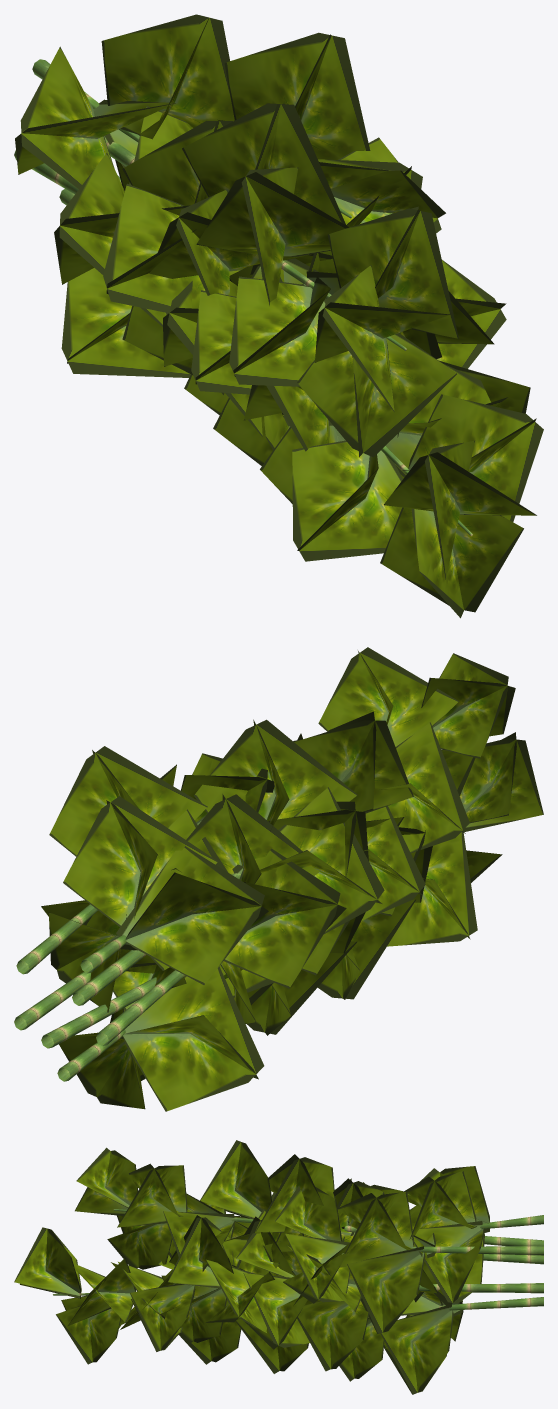
The model's file is tree-4.gltf.
The picture shows the model from 3 angles, top to bottom: view 1: azimuth 30°, elevation 25°; view 2: azimuth 150°, elevation 25°; view 3: azimuth 270°, elevation 25°; orthographic projection. The views are drawn at different scales.
Visible parts, largest first — view 1: tree.013; view 2: tree.013; view 3: tree.013.
Part boxes in pixels (<box>): tree.013: <box>14,14,543,618</box>; tree.013: <box>14,647,543,1111</box>; tree.013: <box>14,1140,543,1394</box>.
Bounding box in the file's own units: 1.25 × 1.37 × 3.01.
1 material, 1 textured.
